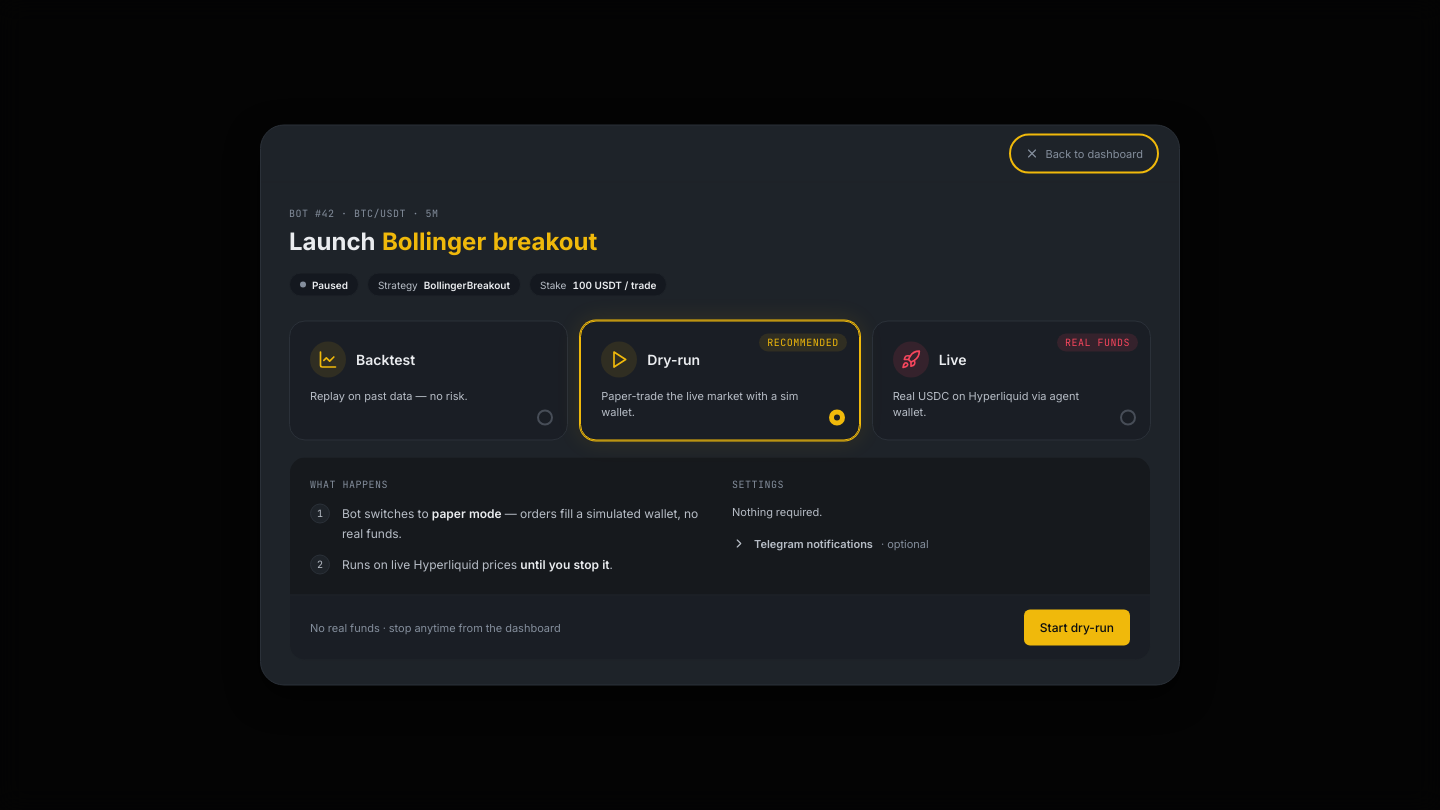
LaunchpadModal › backtest: start failure shows the error and keeps the modal open
This screenshot has width=1440, height=810.
Step 1. Click the radio button labelled "Backtest Replay on past data — no risk." → (328, 360), box top-left (289, 320), bottom-right (568, 440)
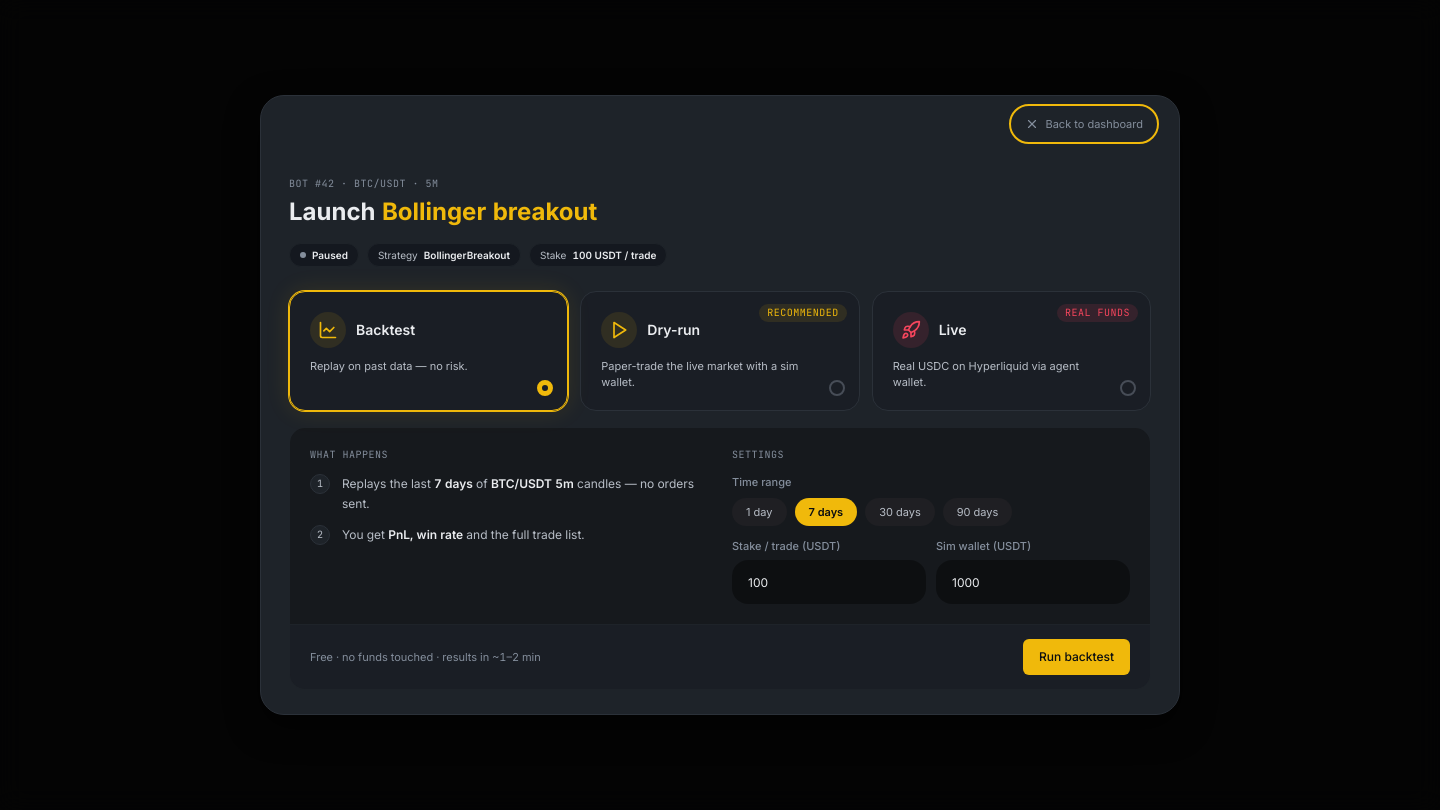
Step 2. Click the button "Run backtest" → (1076, 657), box top-left (1023, 639), bottom-right (1130, 675)
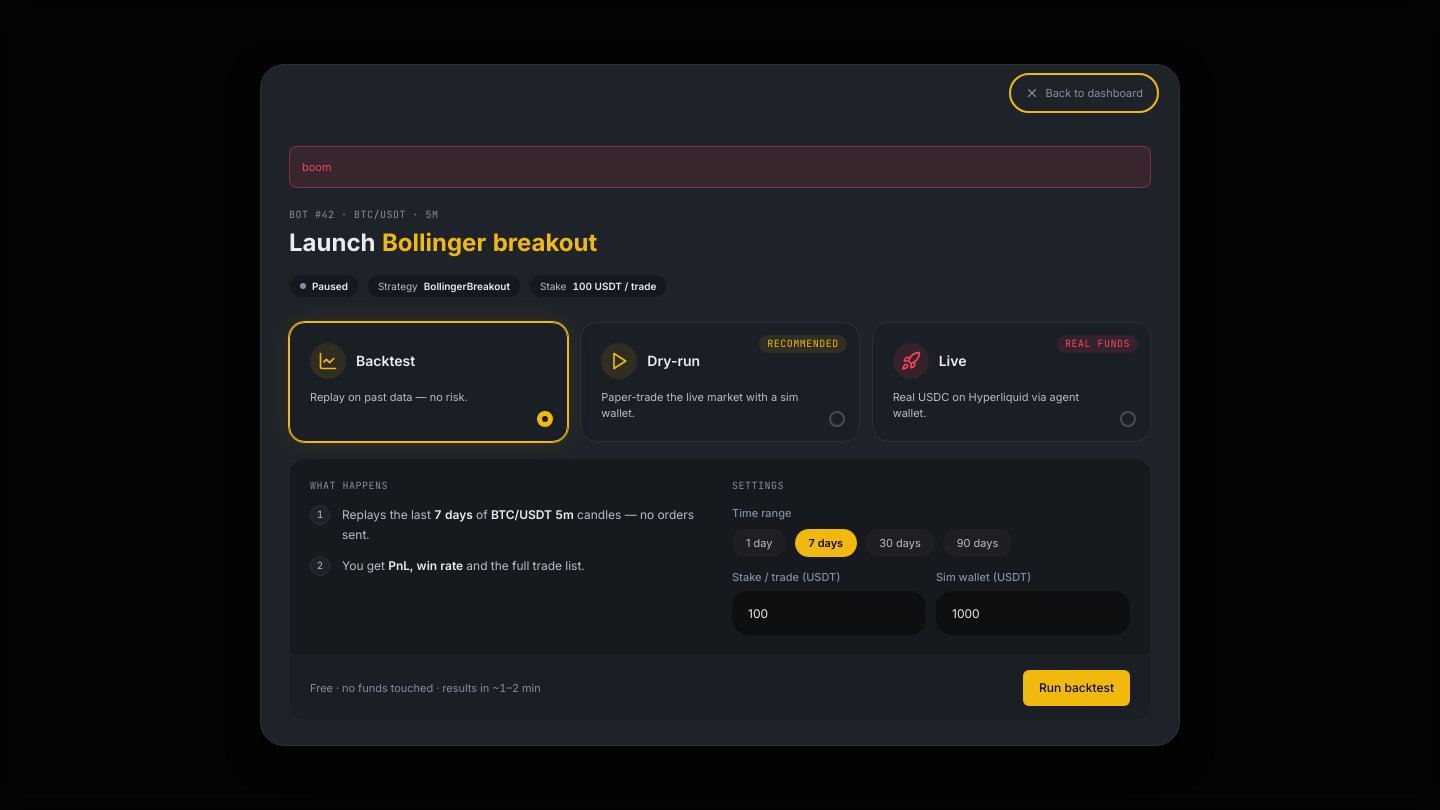
Expected: the text "boom" is shown, top-left (289, 146), bottom-right (1151, 188)
